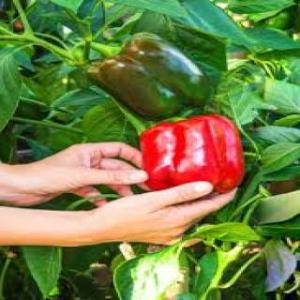bell_pepper: (73, 33, 213, 119)
